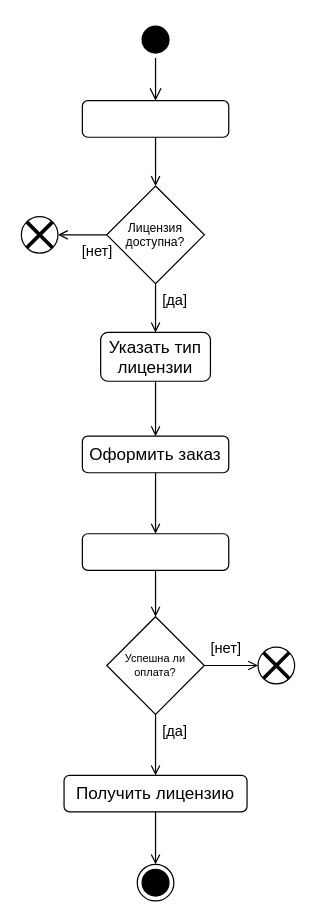
The diagram is 316 pixels wide and 922 high, and some of its shapes have lost their labels. Each missing label, with the centre of its shape:
"Выбрать фильм" goes at [155,118].
"Оплатить заказ" goes at [155,551].
